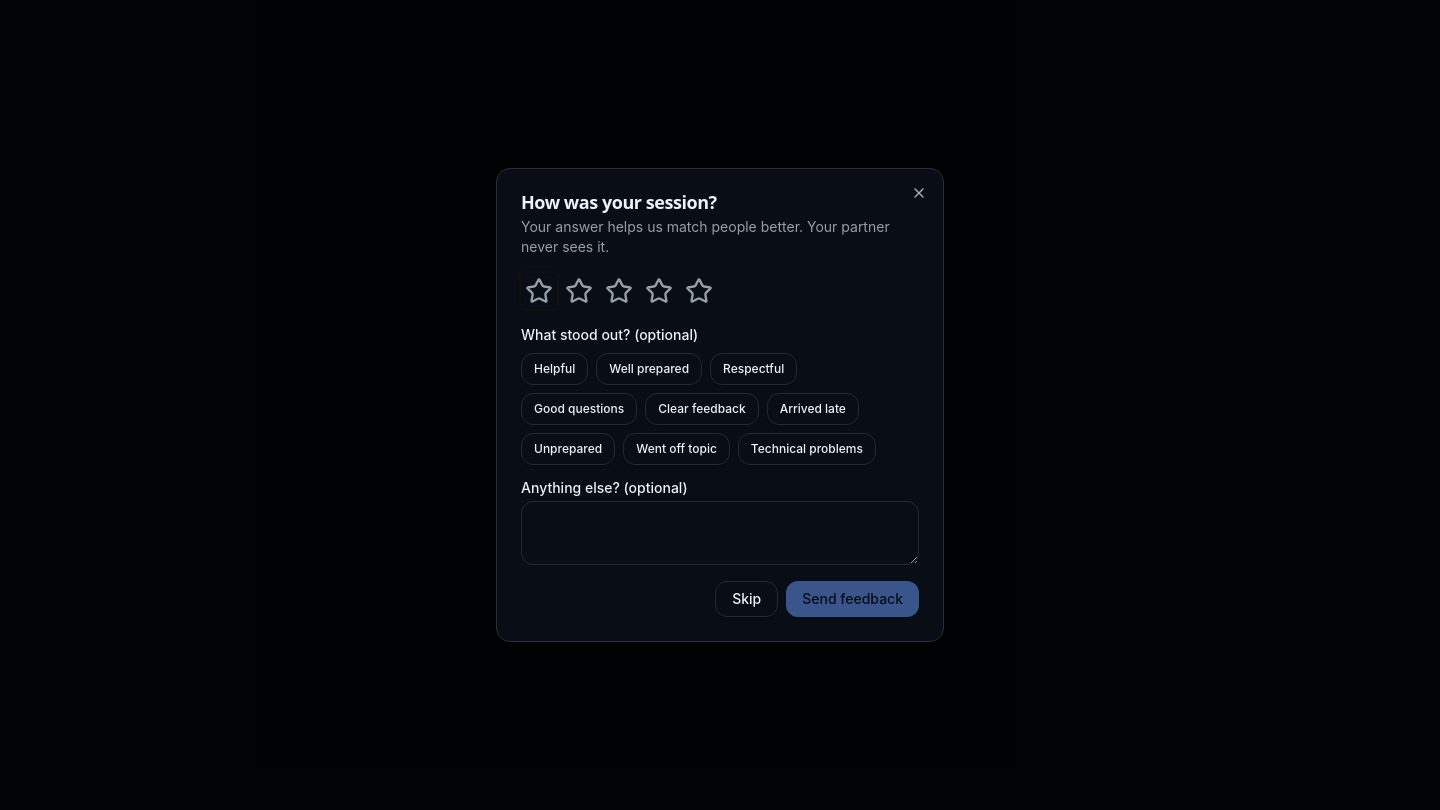
PeerFeedbackDialog › shows the reason when saving fails
Click the radio button named "5 stars" at (699, 291), box [681,273,717,309]
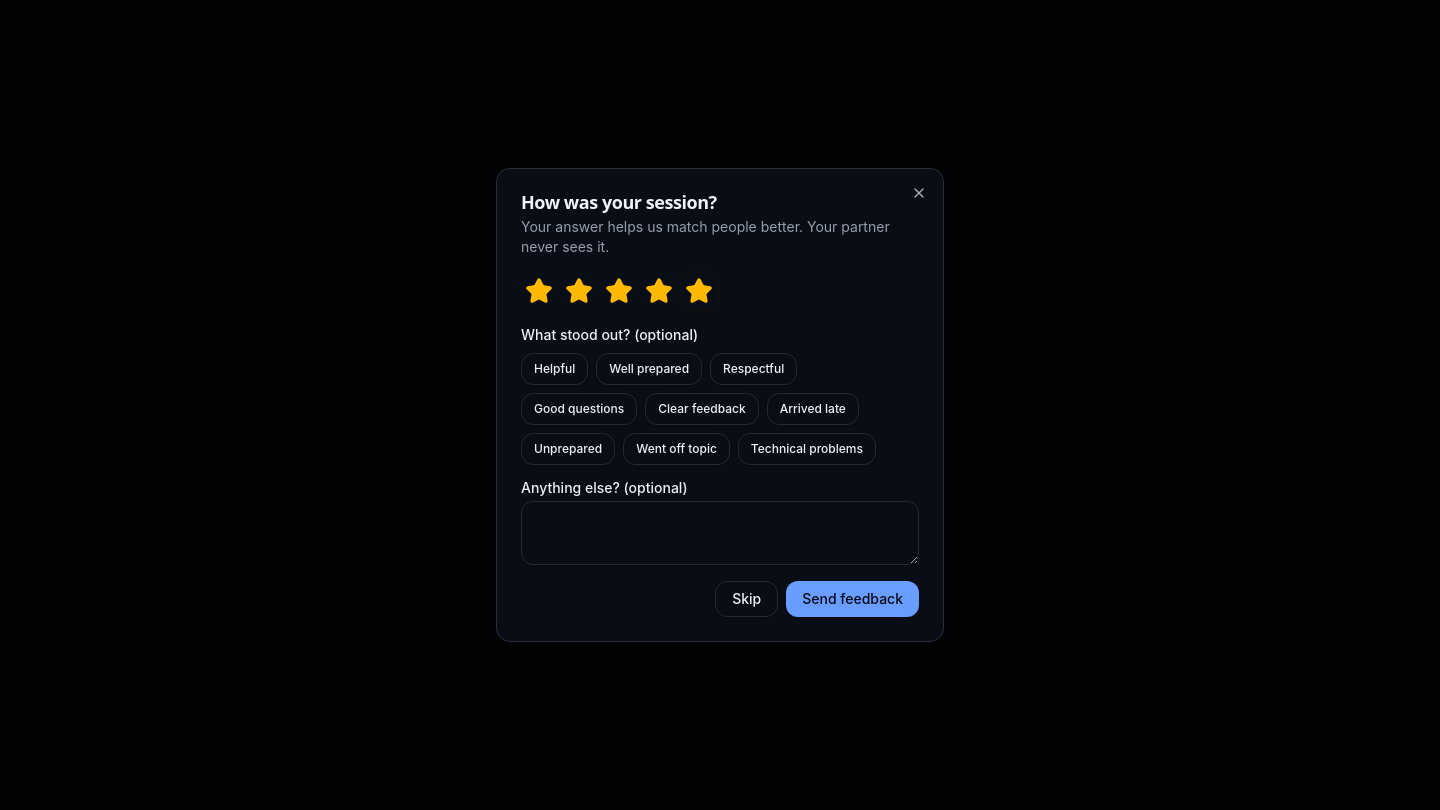
Click the button "Send feedback" at (853, 599), box [786,581,919,617]
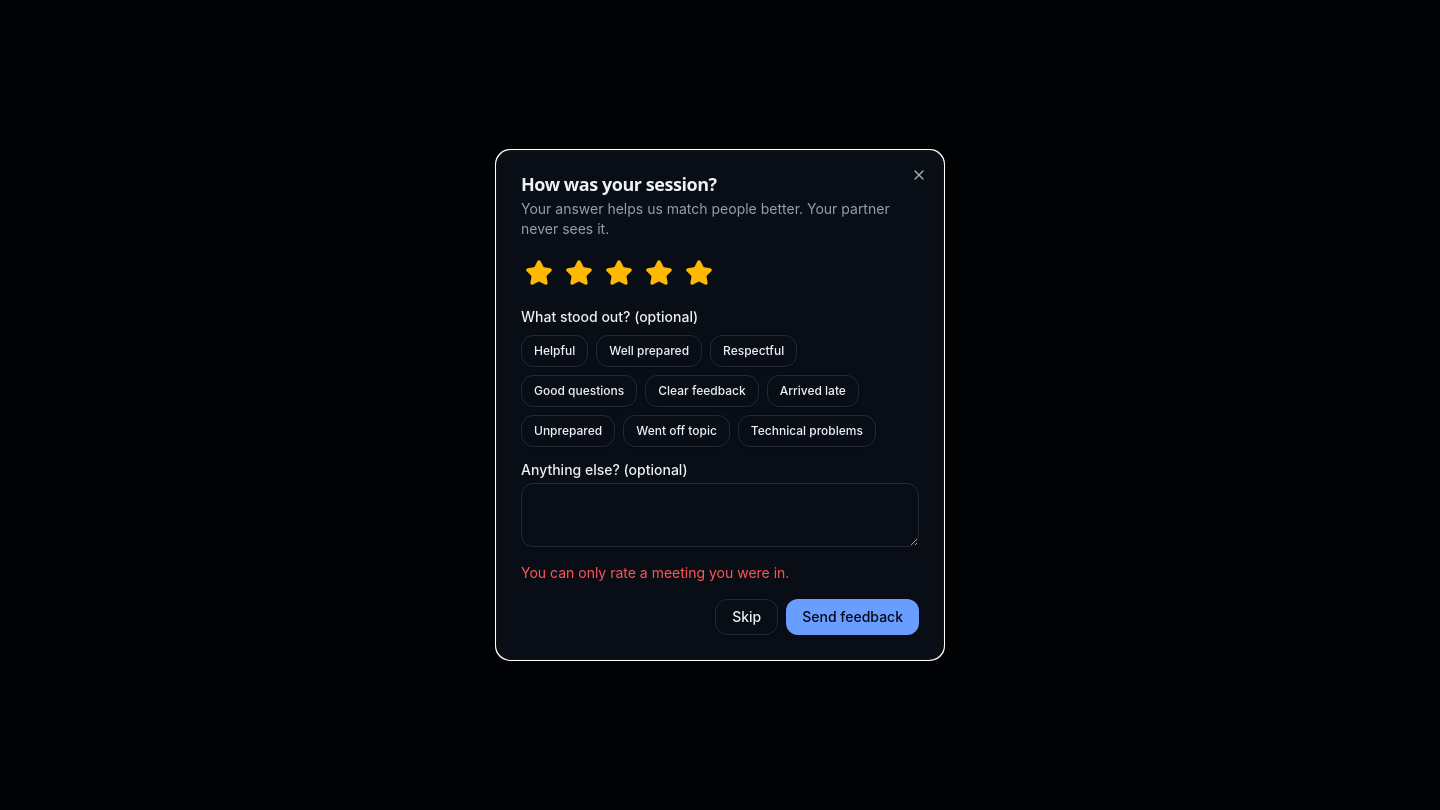
Result: the message shows "only rate a meeting" at [521,564,789,581]
